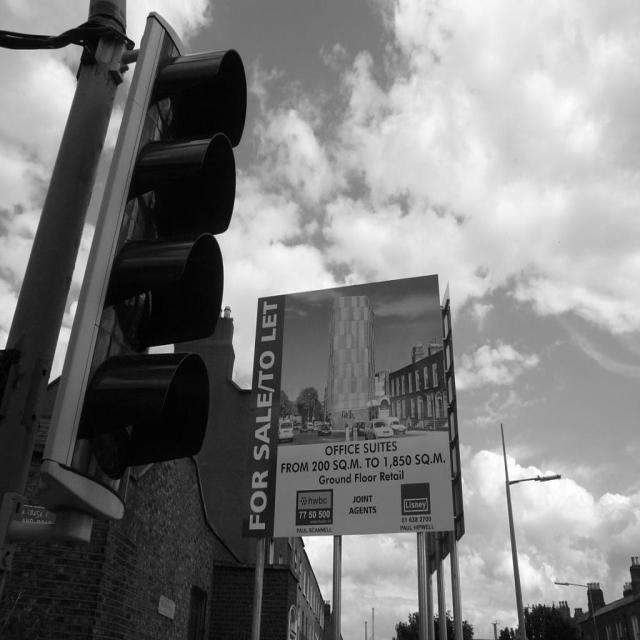off traffic light: (43, 12, 252, 521)
